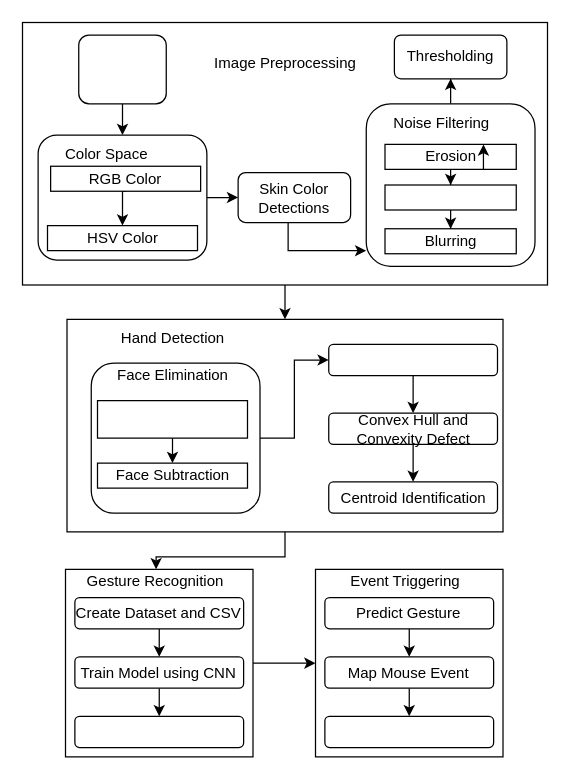
The diagram is 569 pixels wide and 779 high, and some of its shapes have lost their labels. The shapes that lost their labels are listed below. From the top down, each one's centre as x and y in pixels, then its label:
the point at 122,69: Capture Image from camera
the point at 450,197: Dilation
the point at 413,359: Contour Detection
the point at 172,418: Face Detection using Haar Cascade
the point at 159,731: Classify Gestures
the point at 409,731: Perform Action
